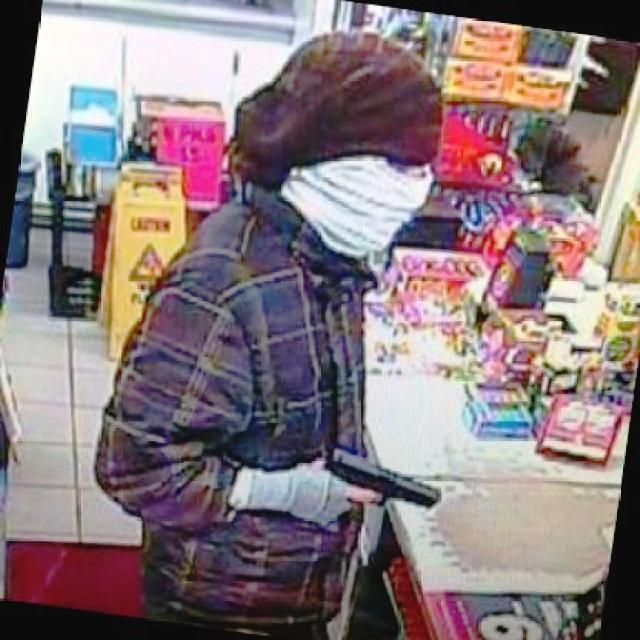Gun: (324, 432, 448, 535)
